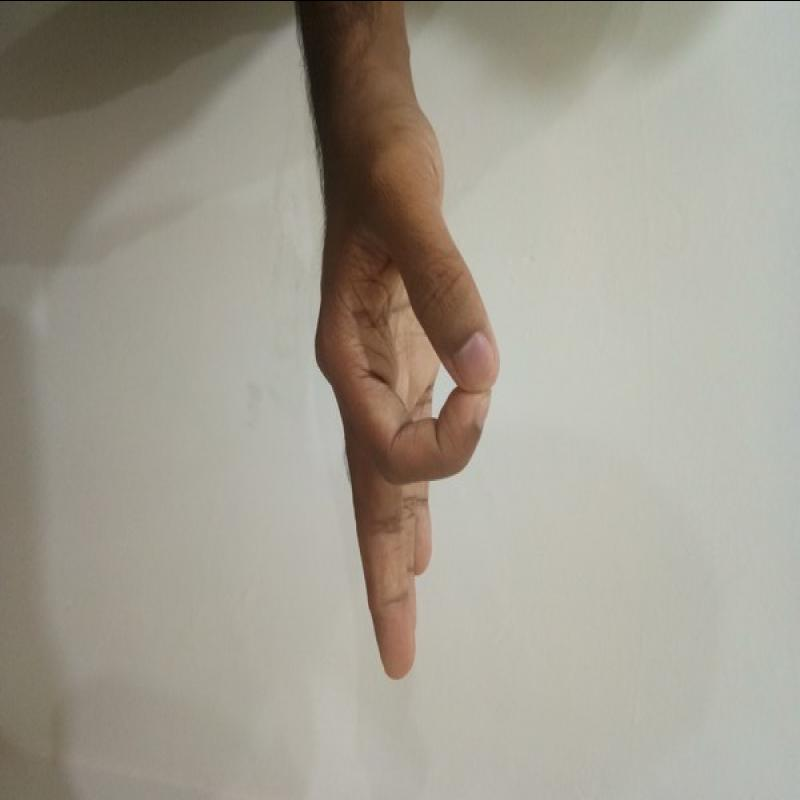Mudraakhyam: (259, 99, 534, 695)
